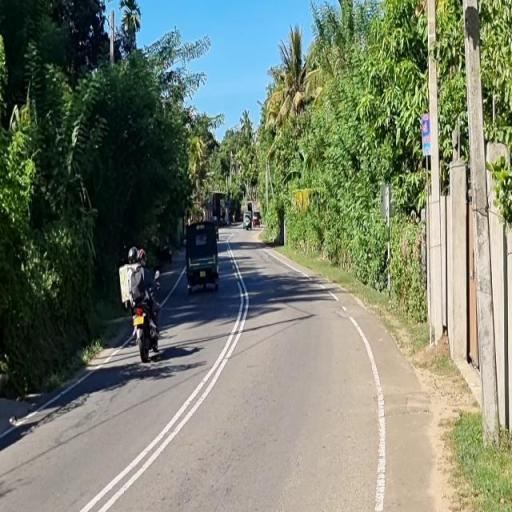double_white_line: (78, 232, 248, 510)
